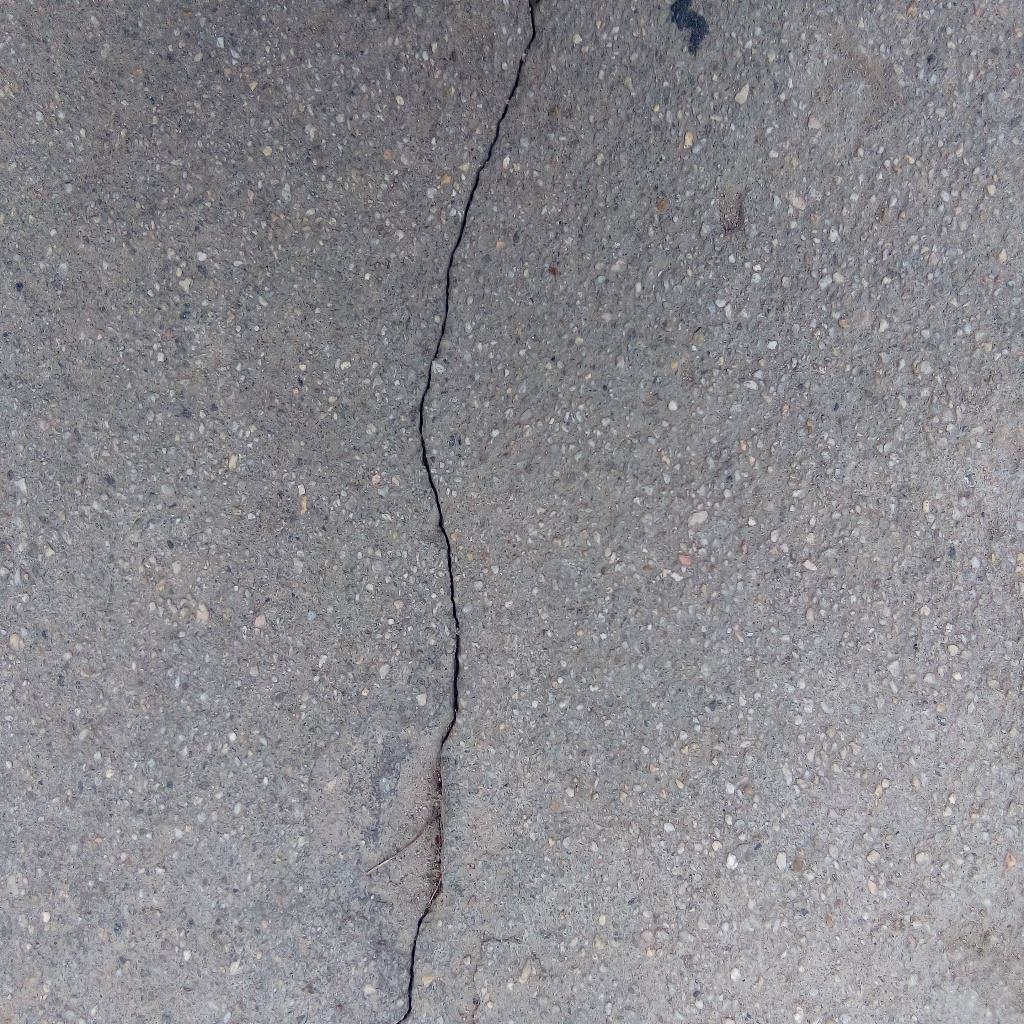Crack: (397, 1, 536, 1024)
